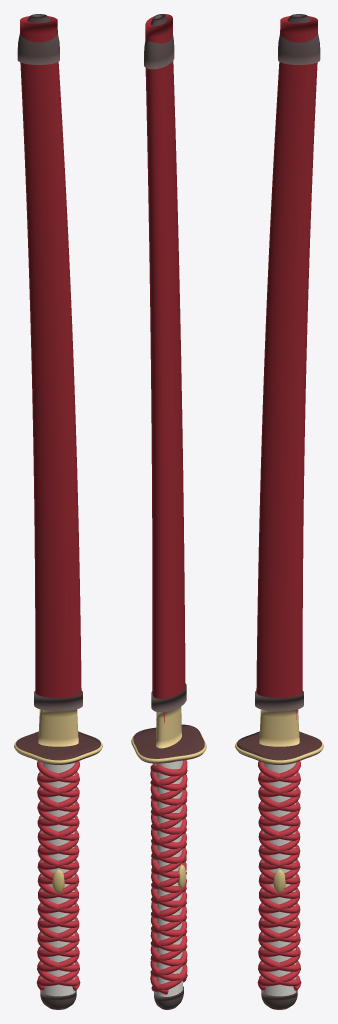
The model's file is katana_red.glb.
The picture shows the model from 3 angles, left to right: view 1: azimuth 90°, elevation 25°; view 2: azimuth 150°, elevation 25°; view 3: azimuth 270°, elevation 25°; orthographic projection.
Parts seen in each view (by area): view 1: Saya, Tsuka, Tsuba, Habaki; view 2: Saya, Tsuka, Tsuba, Habaki; view 3: Saya, Tsuka, Tsuba, Habaki.
Part boxes in pixels (bbox=[...]): Saya: bbox=[17, 14, 82, 711]; Tsuka: bbox=[36, 761, 80, 1009]; Tsuba: bbox=[14, 731, 102, 764]; Habaki: bbox=[38, 709, 78, 746]; Saya: bbox=[144, 14, 186, 712]; Tsuka: bbox=[150, 760, 187, 1009]; Tsuba: bbox=[131, 724, 206, 763]; Habaki: bbox=[156, 706, 181, 748]; Saya: bbox=[255, 14, 320, 711]; Tsuka: bbox=[257, 761, 301, 1009]; Tsuba: bbox=[235, 731, 323, 764]; Habaki: bbox=[259, 709, 299, 746].
Size of the model in its own units: 0.0722 by 1 by 0.0816.
